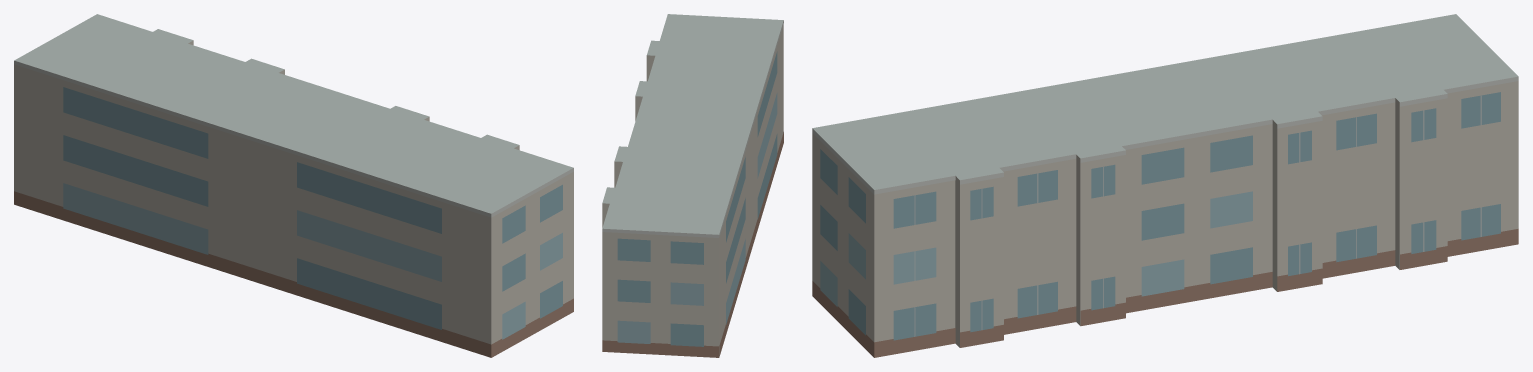
Rendered from survey-upis-32775379.glb.
3 renders of one model, left to right at view 1: azimuth 30°, elevation 25°; view 2: azimuth 150°, elevation 25°; view 3: azimuth 270°, elevation 25°, orthographic. The views are drawn at different scales.
Visible parts, largest first — view 1: survey-upis-32775379.tmp; view 2: survey-upis-32775379.tmp; view 3: survey-upis-32775379.tmp.
Part boxes in pixels (bbox=[...]): survey-upis-32775379.tmp: bbox=[14, 14, 573, 357]; survey-upis-32775379.tmp: bbox=[602, 14, 783, 357]; survey-upis-32775379.tmp: bbox=[812, 14, 1518, 357].
Size of the model in its own units: 20.61 by 9.15 by 34.92.
